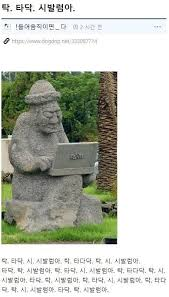Stone Statue: (0, 78, 104, 235)
